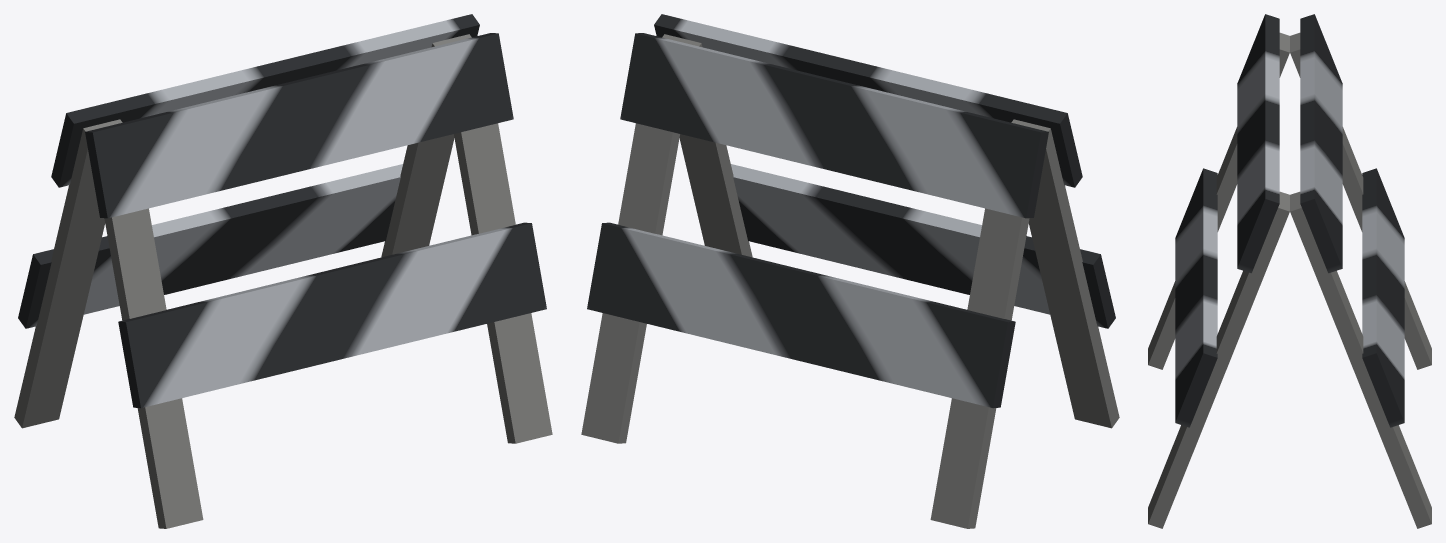
File: SM_Prop_Roadblock_03.fbx
3 renders of one model, left to right at view 1: azimuth 30°, elevation 25°; view 2: azimuth 150°, elevation 25°; view 3: azimuth 270°, elevation 25°, orthographic. The views are drawn at different scales.
Parts seen in each view (by area): view 1: SM_Prop_Roadblock_03; view 2: SM_Prop_Roadblock_03; view 3: SM_Prop_Roadblock_03.
Part boxes in pixels (box(x1,y1,x2,y2)): SM_Prop_Roadblock_03: box(14, 14, 552, 528); SM_Prop_Roadblock_03: box(581, 14, 1119, 528); SM_Prop_Roadblock_03: box(1148, 14, 1431, 528).
Size of the model in its own units: 117 by 98.99 by 76.17.
